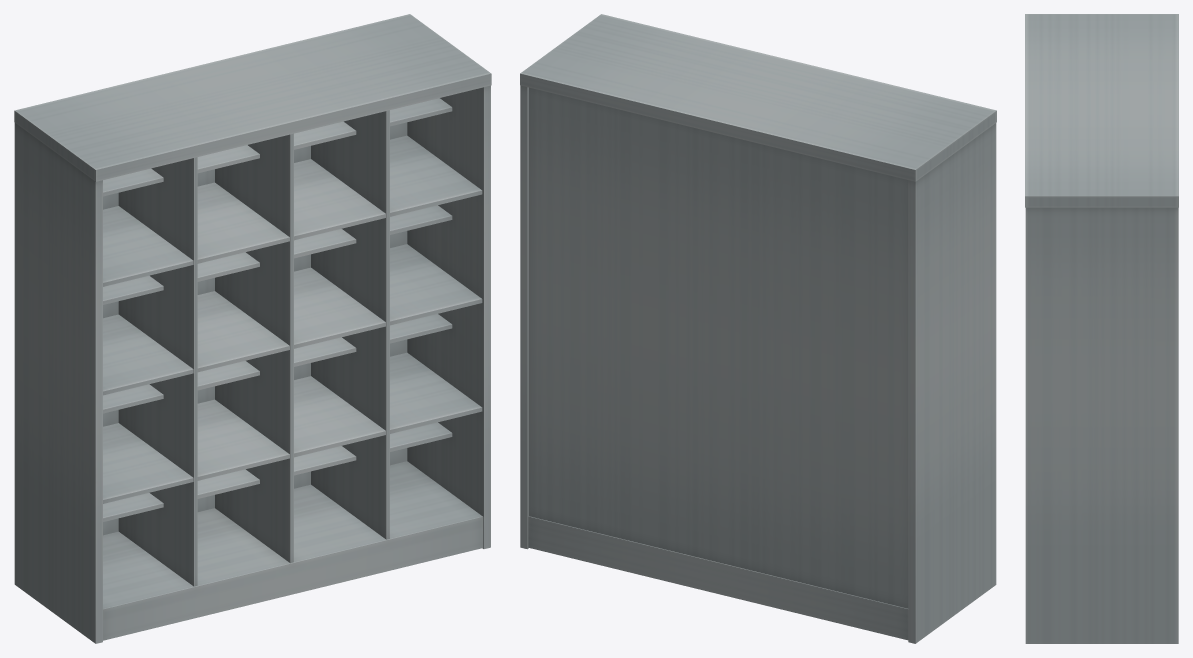
Rendered from set_shoecupboard_a_06.fbx.
The picture shows the model from 3 angles, left to right: view 1: azimuth 30°, elevation 25°; view 2: azimuth 150°, elevation 25°; view 3: azimuth 270°, elevation 25°; orthographic projection. The views are drawn at different scales.
Visible parts, largest first — view 1: set_shoecupboard_a_06; view 2: set_shoecupboard_a_06; view 3: set_shoecupboard_a_06.
Boxes of the visible parts, <box> form: set_shoecupboard_a_06: <box>14,14,491,643</box>; set_shoecupboard_a_06: <box>520,14,996,643</box>; set_shoecupboard_a_06: <box>1025,14,1178,643</box>.
Bounding box in the file's own units: 105 × 120 × 37.38.
